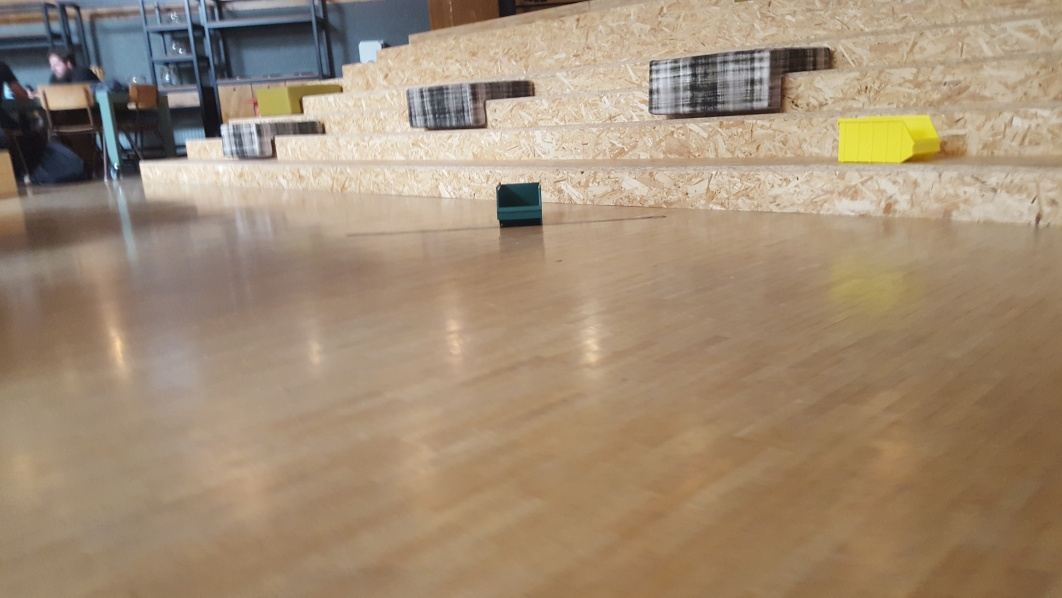tray: (833, 115, 943, 161), (494, 179, 544, 226)
